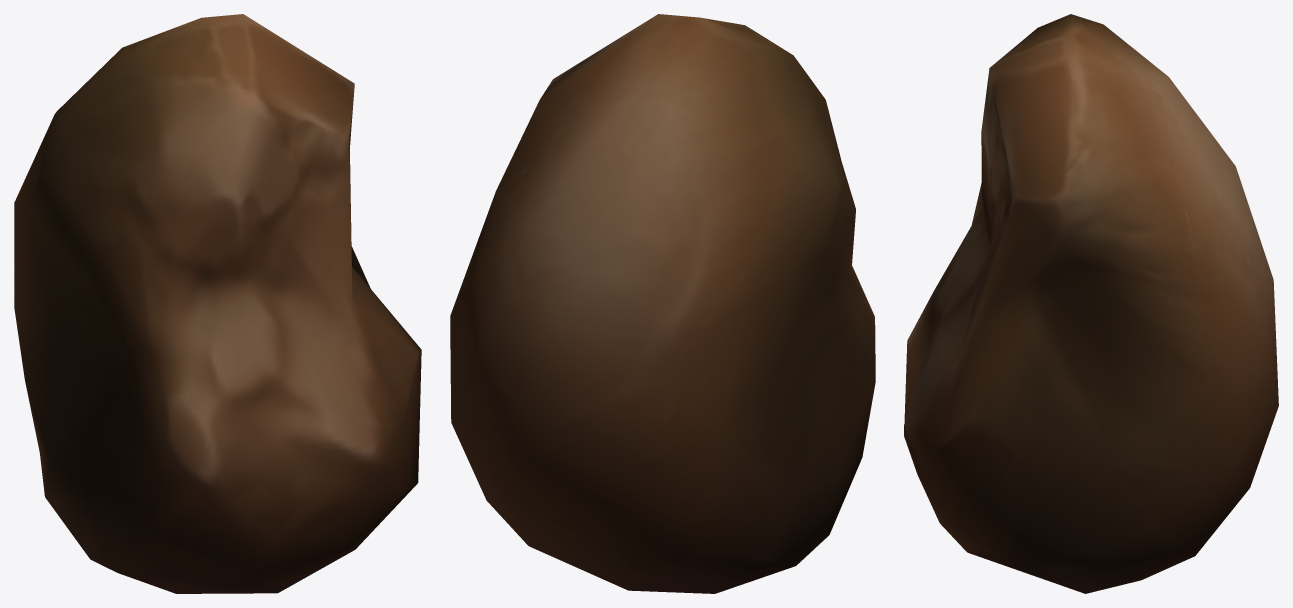
Rendered from PEÑUSCO.fbx.
3 renders of one model, left to right at view 1: azimuth 30°, elevation 25°; view 2: azimuth 150°, elevation 25°; view 3: azimuth 270°, elevation 25°, orthographic. The views are drawn at different scales.
Visible parts, largest first — view 1: Cylinder.014; view 2: Cylinder.014; view 3: Cylinder.014.
Part boxes in pixels (bbox=[...]): Cylinder.014: bbox=[14, 14, 421, 593]; Cylinder.014: bbox=[450, 14, 875, 593]; Cylinder.014: bbox=[904, 14, 1278, 593].
Size of the model in its own units: 194 by 297 by 191.
